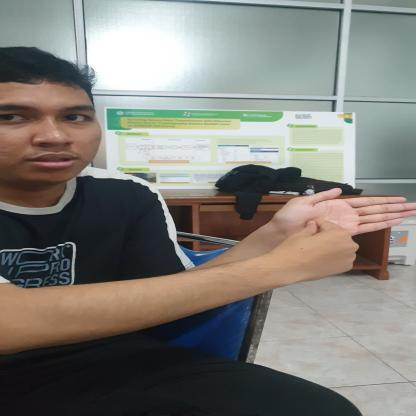Nama: (176, 177, 416, 291)
